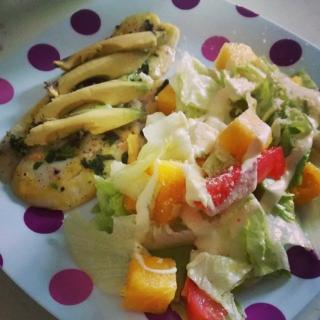Salad: (60, 38, 319, 320)
